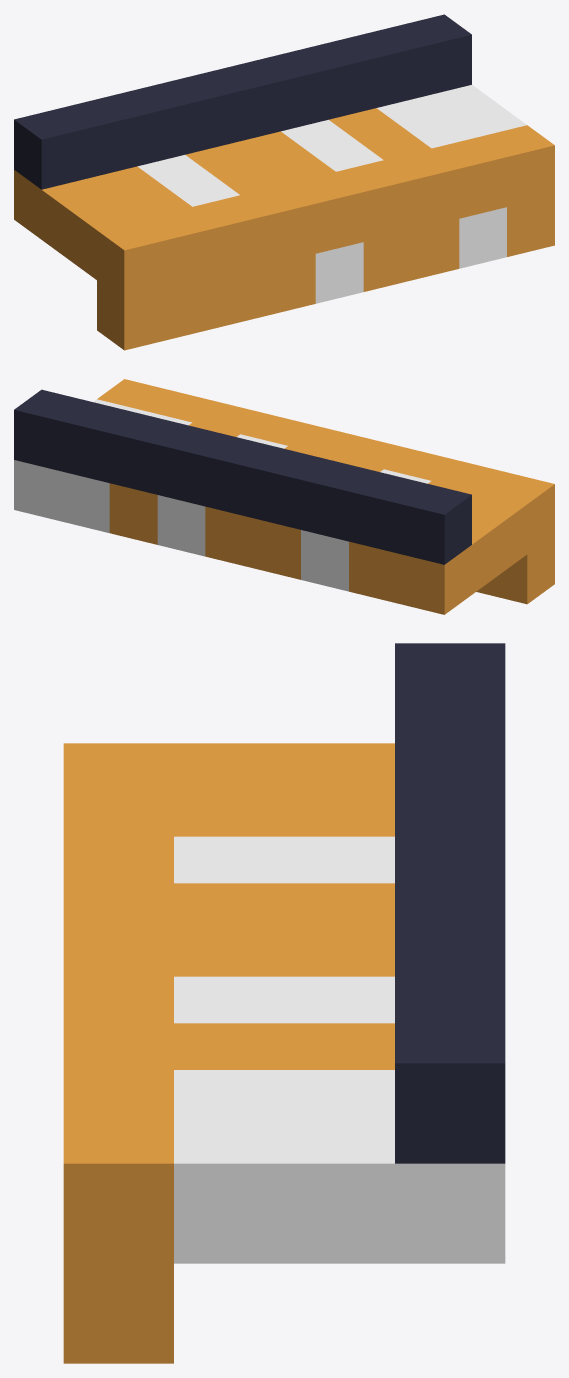
The model's file is awning.glb.
3 views of the same model, one above another, from view 1: azimuth 30°, elevation 25°; view 2: azimuth 150°, elevation 25°; view 3: azimuth 270°, elevation 25° (orthographic). The views are drawn at different scales.
Parts seen in each view (by area): view 1: awning_awning, awning_black, awning_white; view 2: awning_black, awning_awning, awning_white; view 3: awning_awning, awning_white, awning_black.
Boxes of the visible parts, x1=… form: awning_awning: x1=14, y1=108, x2=554, y2=350; awning_black: x1=14, y1=14, x2=471, y2=189; awning_white: x1=137, y1=85, x2=526, y2=303; awning_black: x1=14, y1=389, x2=471, y2=564; awning_awning: x1=97, y1=379, x2=554, y2=614; awning_white: x1=14, y1=399, x2=430, y2=591; awning_awning: x1=63, y1=743, x2=394, y2=1363; awning_white: x1=174, y1=836, x2=505, y2=1263; awning_black: x1=395, y1=643, x2=505, y2=1163.
Size of the model in its own units: 4.5 by 1.5 by 2.
